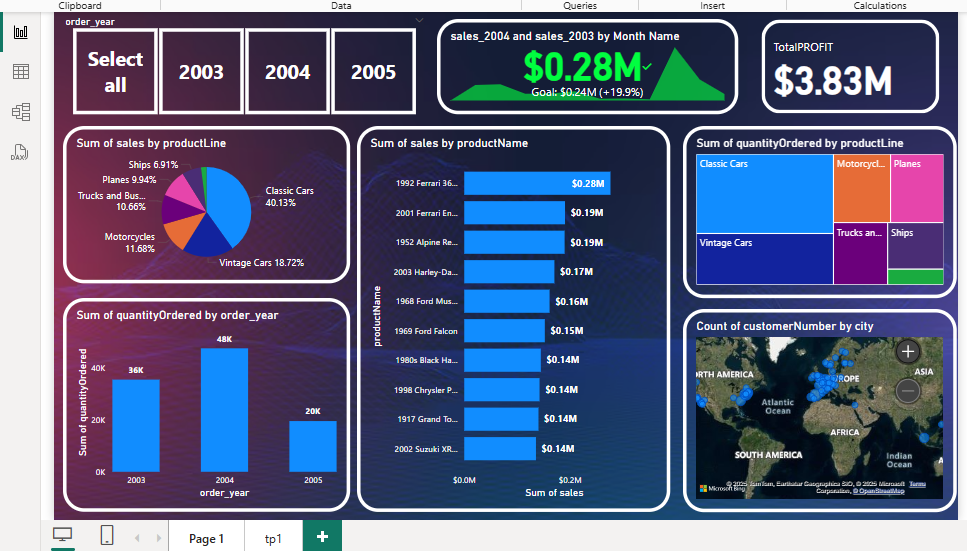

The page's visual inventory and layout, read from the dashboard file:
{"tool":"powerbi","page":{"name":"Page 1","canvas":[1280,720],"ordinal":0},"visuals":[{"type":"cardVisual","fields":{"Data":["order details.TotalPROFIT"]},"box":[997.8,5.7,262.2,143.1],"z":0},{"type":"barChart","fields":{"Category":["products.productName"],"Y":["Sum(order details.sales)"]},"box":[429.4,161.6,443.6,547.1],"z":1000},{"type":"pieChart","fields":{"Category":["productlines.productLine"],"Y":["Sum(order details.sales)"]},"box":[12.8,161.6,406.8,222.5],"z":2000},{"type":"slicer","fields":{"Values":["orders.order_year"]},"box":[0,0,537.2,148.8],"z":3000},{"type":"kpi","fields":{"Goal":["orders.sales_2003"],"TrendLine":["orders.Month Name"],"Indicator":["orders.sales_2004"]},"box":[542.8,9.9,426.6,134.6],"z":4000},{"type":"map","fields":{"Category":["customers.city"],"Size":["CountNonNull(customers.customerNumber)"]},"box":[891.5,420.9,388.3,287.7],"z":5000},{"type":"treemap","fields":{"Group":["productlines.productLine"],"Values":["Sum(order details.quantityOrdered)"]},"box":[891.5,161.6,388.3,243.8],"z":6000},{"type":"columnChart","fields":{"Category":["orders.order_year"],"Y":["Sum(order details.quantityOrdered)"]},"box":[12.8,405.4,406.8,303.3],"z":7000}]}

Visuals, with their boxes in screenshot pixels (x1, y1, x2, y2):
cardVisual - order details.TotalPROFIT: (757, 12, 946, 114)
barChart - products.productName x Sum(order details.sales): (349, 124, 668, 517)
pieChart - productlines.productLine x Sum(order details.sales): (49, 124, 342, 284)
slicer - orders.order_year: (40, 8, 426, 114)
kpi - orders.sales_2003 x orders.Month Name: (430, 15, 737, 111)
map - customers.city x CountNonNull(customers.customerNumber): (681, 310, 960, 517)
treemap - productlines.productLine x Sum(order details.quantityOrdered): (681, 124, 960, 299)
columnChart - orders.order_year x Sum(order details.quantityOrdered): (49, 299, 342, 517)
